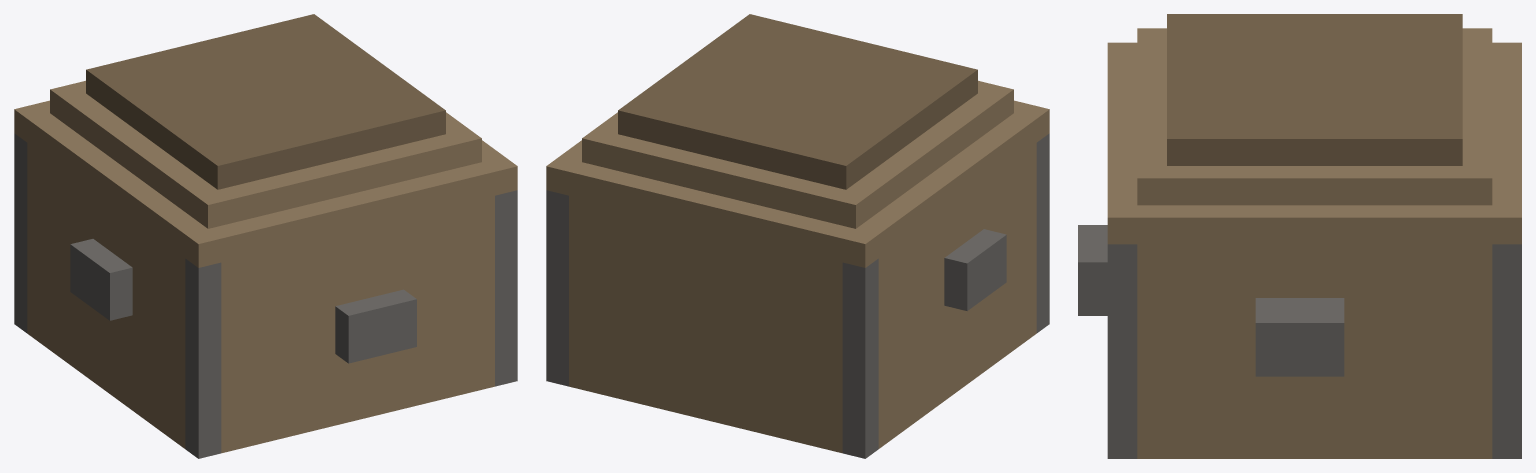
File: cofre_donaciones_catedral_01.glb
The picture shows the model from 3 angles, left to right: view 1: azimuth 30°, elevation 25°; view 2: azimuth 150°, elevation 25°; view 3: azimuth 270°, elevation 25°; orthographic projection. The views are drawn at different scales.
Parts seen in each view (by area): view 1: cofre_donaciones_catedral; view 2: cofre_donaciones_catedral; view 3: cofre_donaciones_catedral.
Boxes of the visible parts, x1,y1,x2,y2 form: cofre_donaciones_catedral: (14,14,517,458); cofre_donaciones_catedral: (546,14,1049,458); cofre_donaciones_catedral: (1078,14,1521,458).
Bounding box in the file's own units: 1.21 × 0.7857 × 1.07.
